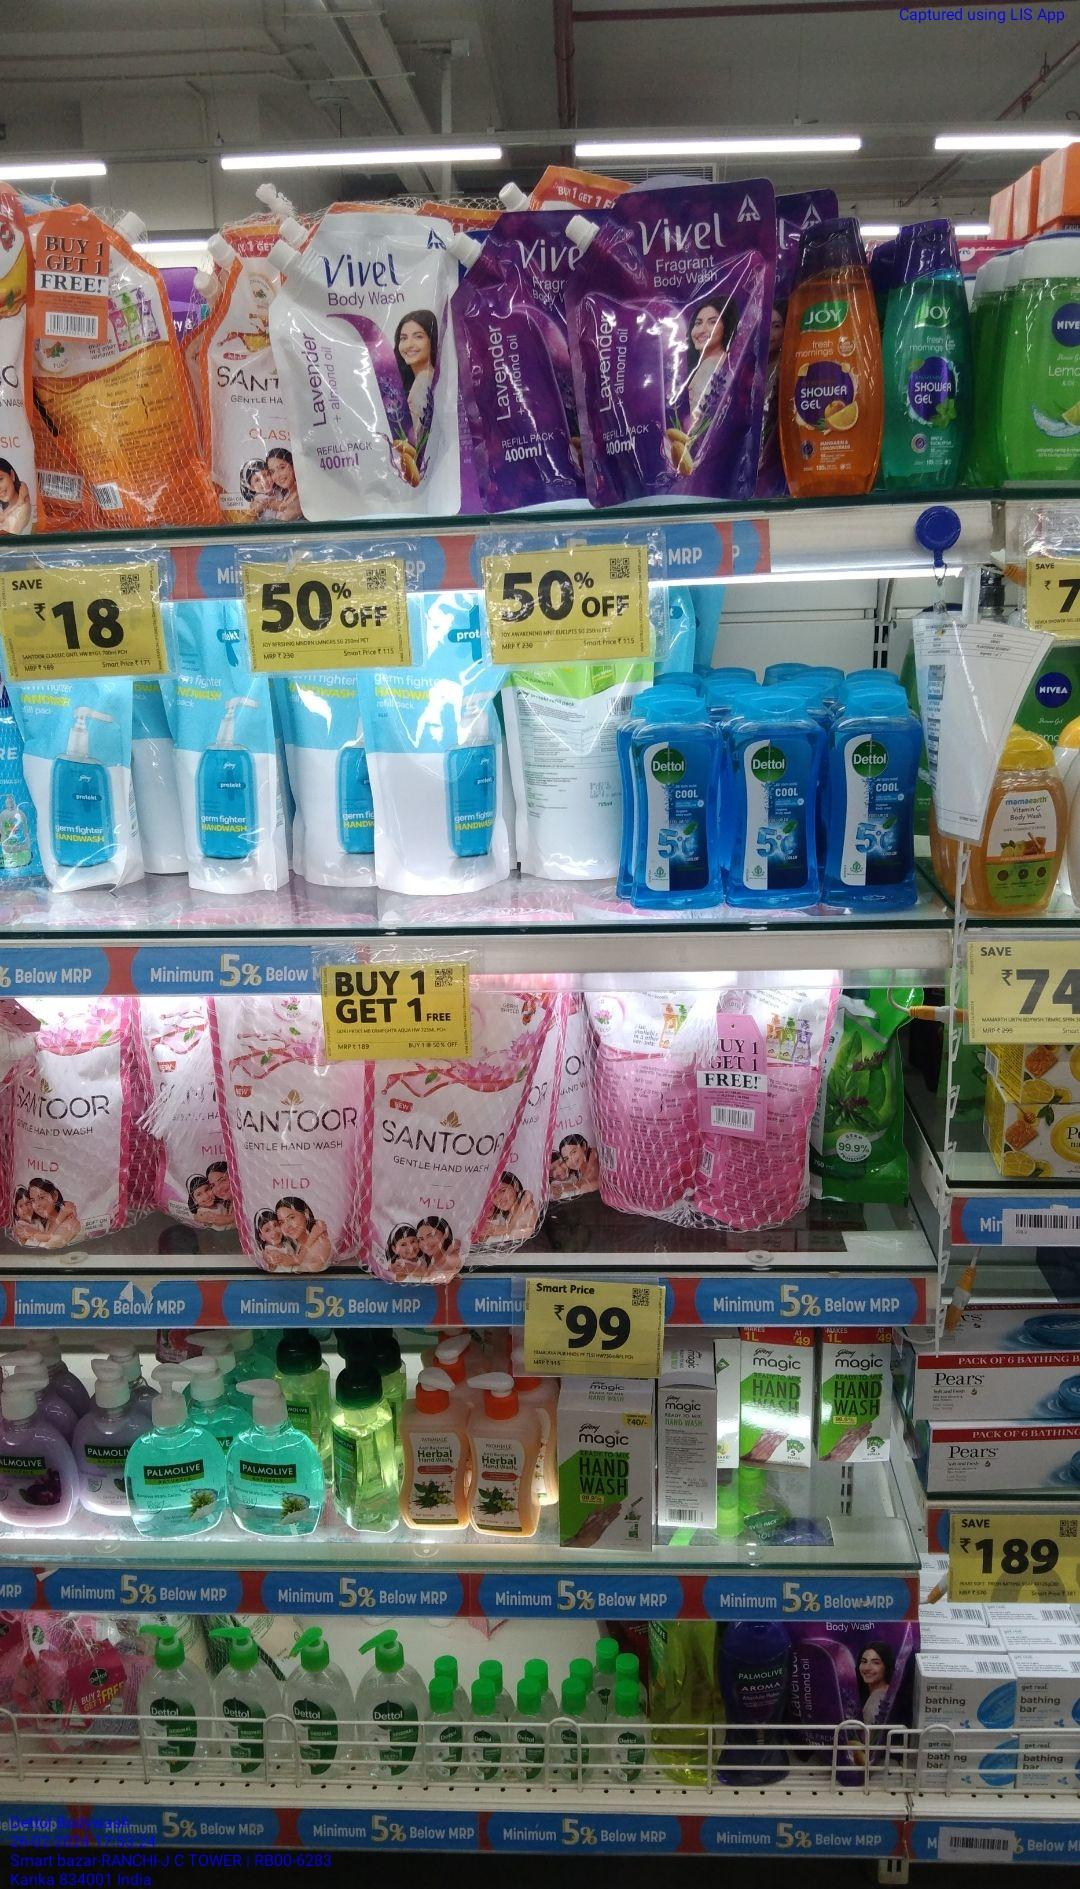Dettol_Bodywash_Cool: (829, 690, 918, 915), (731, 685, 818, 912), (637, 693, 724, 911)
Joy_Shower_Gel_Mandarin_and_Lemongrass_250ML: (781, 205, 880, 496)
Joy_Shower_Gel_Mint_and_Eucalyptus_250ML: (888, 210, 980, 493)
Nivea_Shower_Gel_Lemon_and_Oil_250ML: (1007, 223, 1080, 481)
